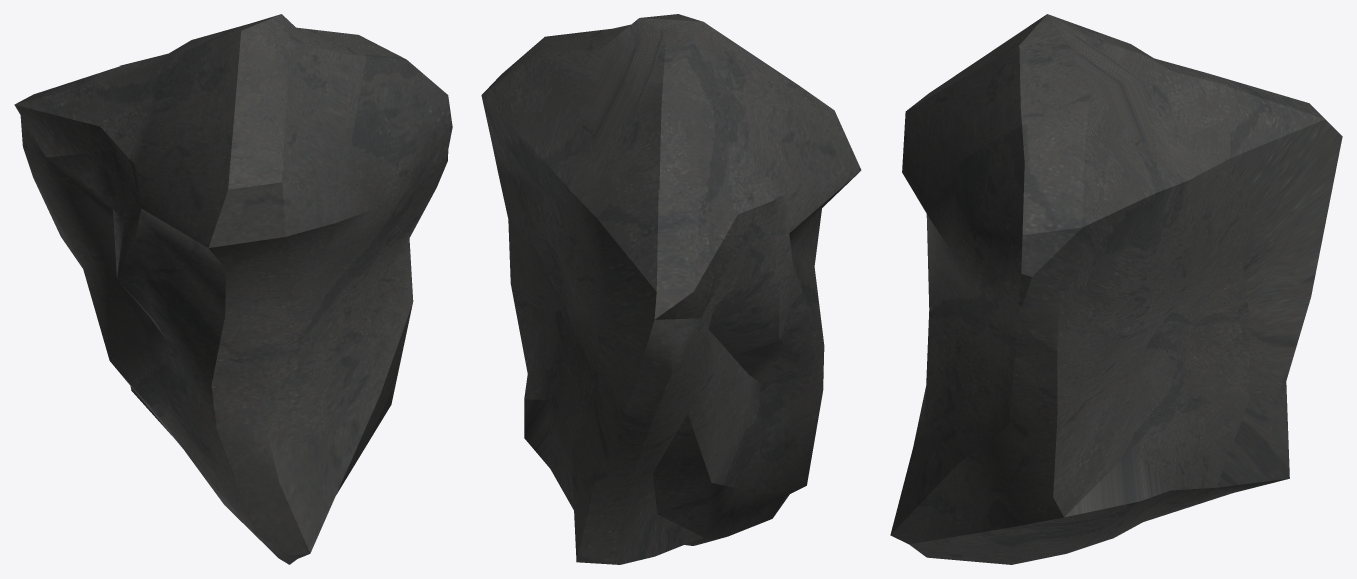
File: misc_rock_medium_1.dae
The picture shows the model from 3 angles, left to right: view 1: azimuth 30°, elevation 25°; view 2: azimuth 150°, elevation 25°; view 3: azimuth 270°, elevation 25°; orthographic projection. The views are drawn at different scales.
Visible parts, largest first — view 1: rock_medium1; view 2: rock_medium1; view 3: rock_medium1.
Boxes of the visible parts, x1,y1,x2,y2 form: rock_medium1: (14,14,452,564); rock_medium1: (481,14,861,564); rock_medium1: (890,14,1342,564).
Size of what is drawn, in the model's own units: 0.8875 by 1.35 by 1.01.
1 material, 1 textured.
